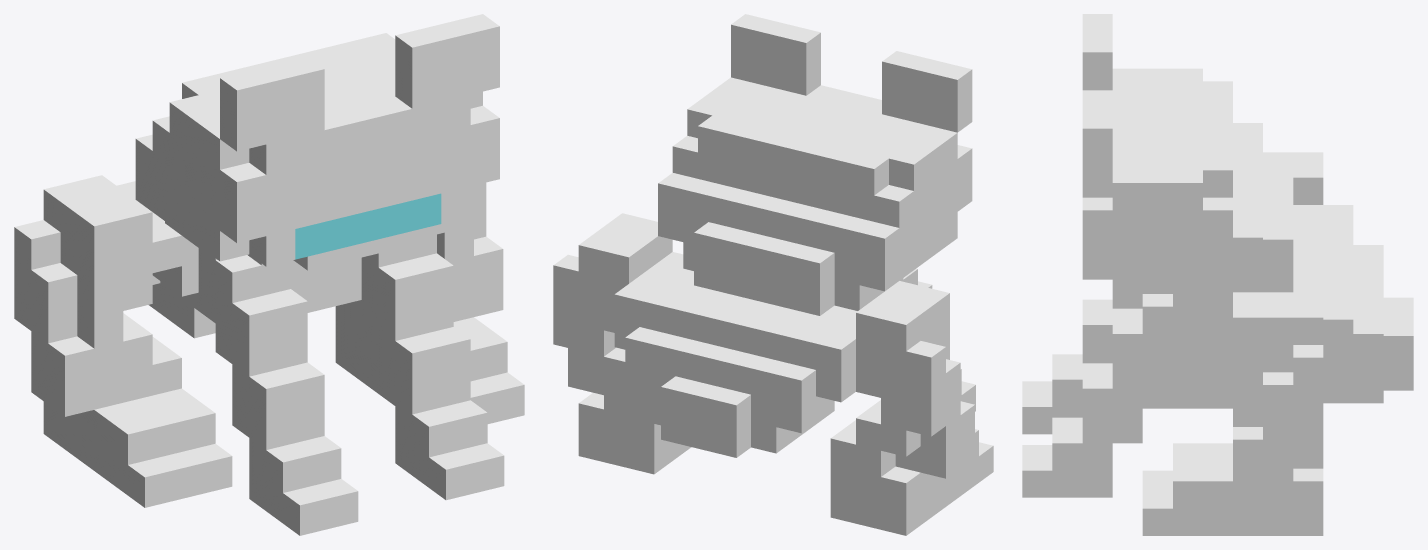
Rendered from sittingfrog.fbx.
The picture shows the model from 3 angles, left to right: view 1: azimuth 30°, elevation 25°; view 2: azimuth 150°, elevation 25°; view 3: azimuth 270°, elevation 25°; orthographic projection. The views are drawn at different scales.
Visible parts, largest first — view 1: sittingfrog; view 2: sittingfrog; view 3: sittingfrog.
Part boxes in pixels (<box>): sittingfrog: <box>14,14,524,535</box>; sittingfrog: <box>553,14,993,535</box>; sittingfrog: <box>1022,14,1413,535</box>.
Bounding box in the file's own units: 1500 × 1400 × 1300.
